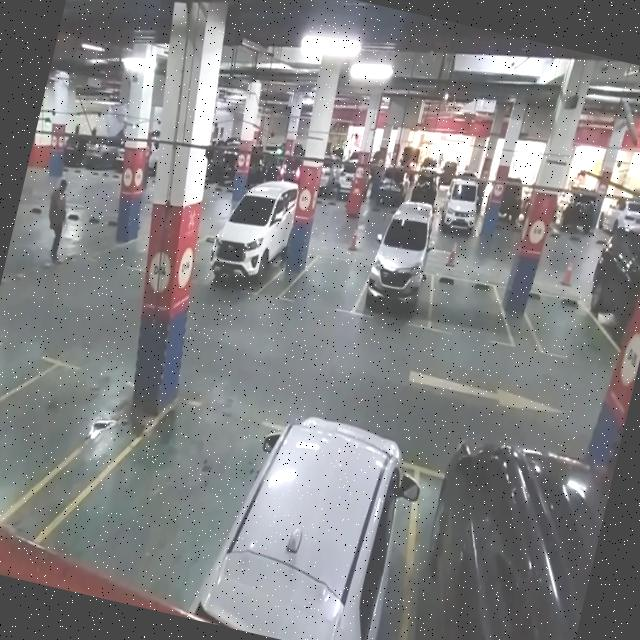empty: (74, 383, 256, 607), (0, 343, 98, 533), (518, 284, 614, 368), (420, 268, 512, 346), (282, 241, 368, 317)
occupied: (207, 402, 430, 640), (381, 433, 612, 640), (202, 188, 296, 302), (353, 226, 446, 332)
